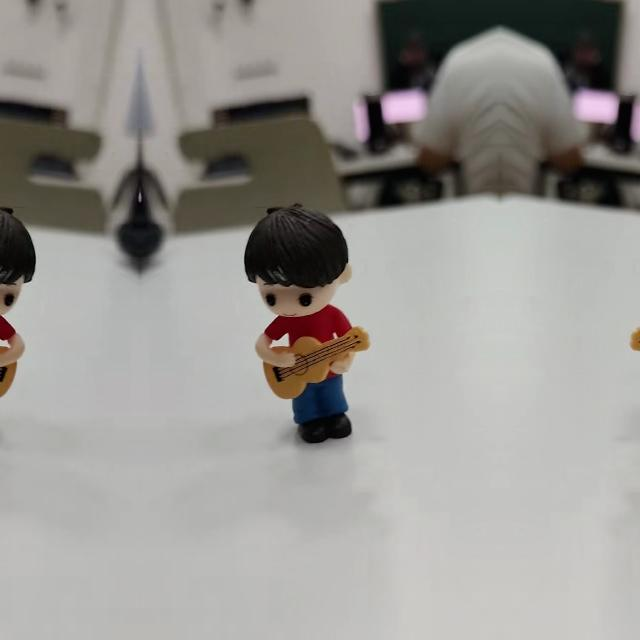man cloth: (263, 309, 353, 346), (0, 309, 17, 346)
man head: (244, 202, 358, 318), (0, 201, 36, 318)
trousers: (292, 372, 358, 444)
